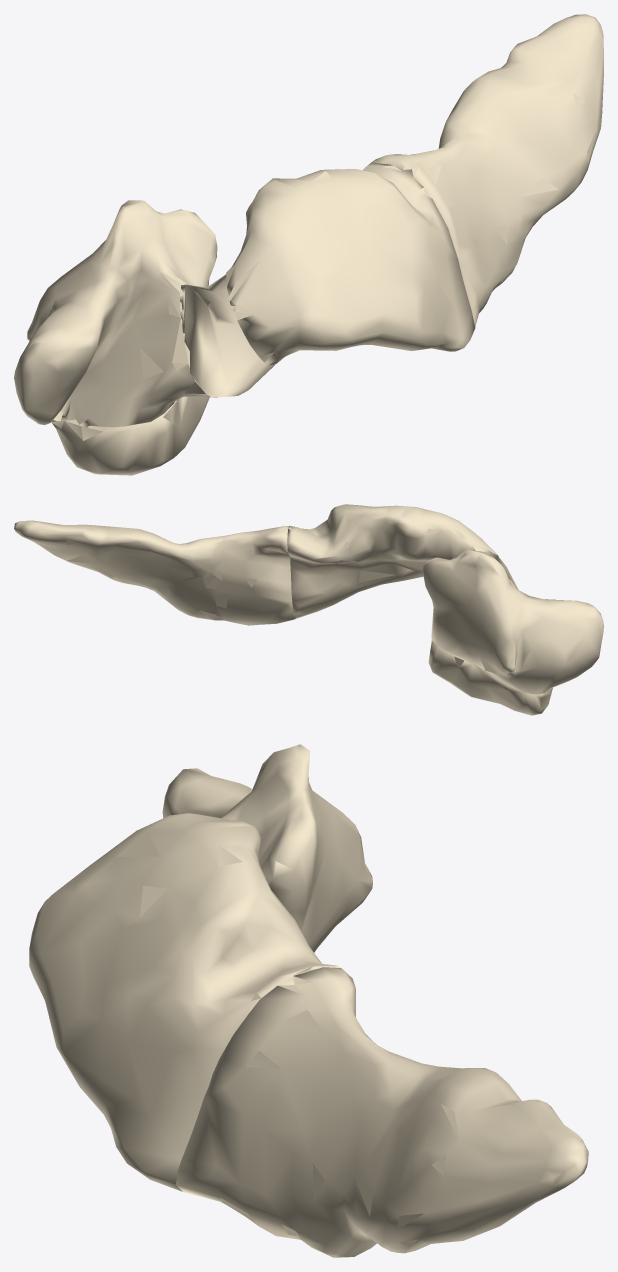
Rendered from 3d-vh-f-pancreas_lod_20.glb.
The picture shows the model from 3 angles, top to bottom: view 1: azimuth 30°, elevation 25°; view 2: azimuth 150°, elevation 25°; view 3: azimuth 270°, elevation 25°; orthographic projection. The views are drawn at different scales.
Visible parts, largest first — view 1: VH_F_body_of_pancreas, VH_F_tail_of_pancreas, VH_F_head_of_pancreas, VH_F_ucinate_process1, VH_F_neck_of_pancreas; view 2: VH_F_tail_of_pancreas, VH_F_head_of_pancreas, VH_F_body_of_pancreas, VH_F_ucinate_process1; view 3: VH_F_tail_of_pancreas, VH_F_body_of_pancreas, VH_F_head_of_pancreas.
Part boxes in pixels (x1,y1,x2,y2): VH_F_body_of_pancreas: [226, 162, 475, 365]; VH_F_tail_of_pancreas: [371, 14, 603, 326]; VH_F_head_of_pancreas: [14, 200, 220, 427]; VH_F_ucinate_process1: [51, 396, 209, 475]; VH_F_neck_of_pancreas: [180, 274, 274, 397]; VH_F_tail_of_pancreas: [14, 520, 295, 625]; VH_F_head_of_pancreas: [423, 549, 603, 694]; VH_F_body_of_pancreas: [287, 504, 501, 618]; VH_F_ucinate_process1: [428, 640, 552, 715]; VH_F_tail_of_pancreas: [176, 967, 588, 1257]; VH_F_body_of_pancreas: [29, 813, 348, 1191]; VH_F_head_of_pancreas: [162, 744, 372, 952].
Size of the model in its own units: 0.172 by 0.0566 by 0.0843.
